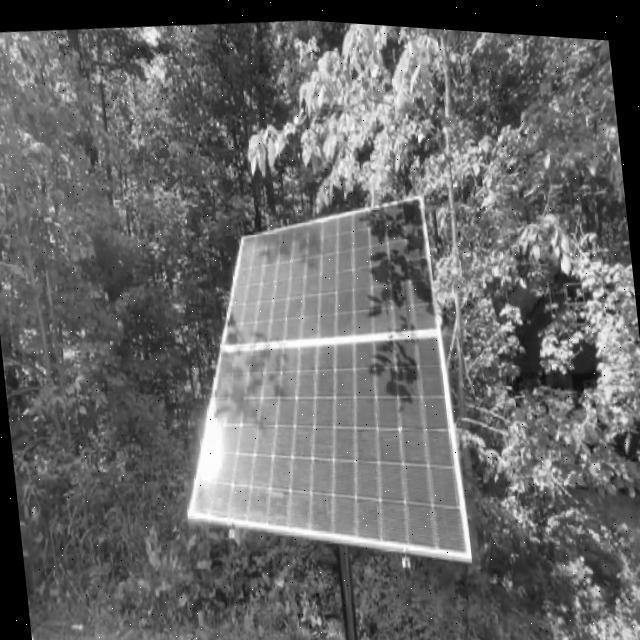Normal Solar Panel: (169, 309, 468, 584), (210, 182, 434, 352)
